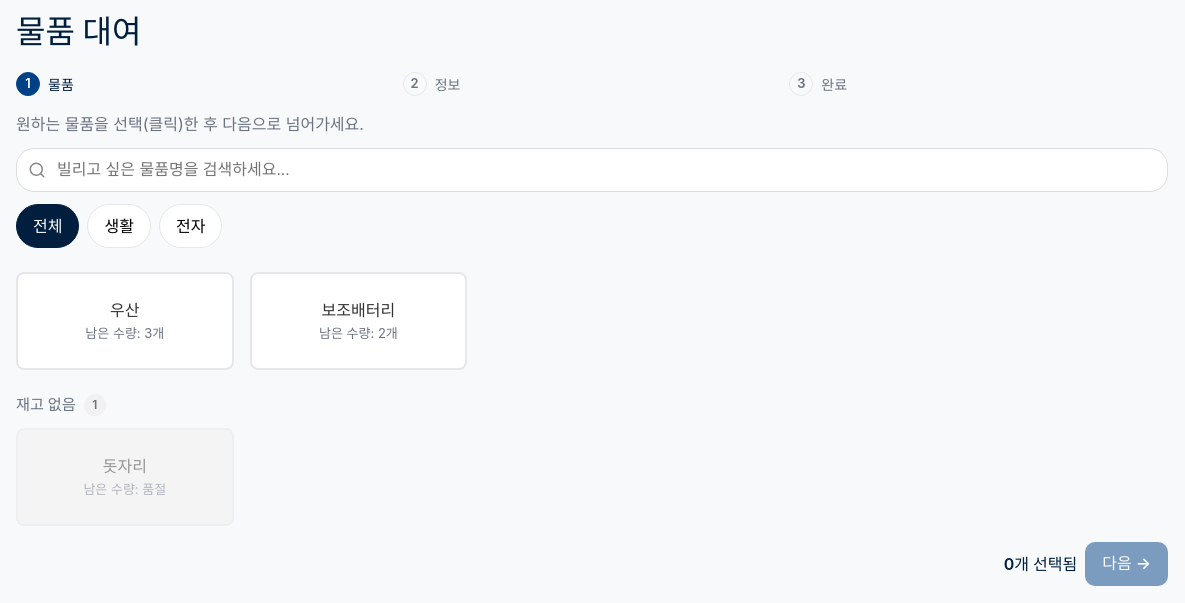
Test: BorrowPage wizard › no 재고 없음 group when everything is in stock
Expected: the button "우산 남은 수량: 3개" is shown, [16,272,234,370]
Click the button "전자": x=191, y=226 [159,204,222,248]
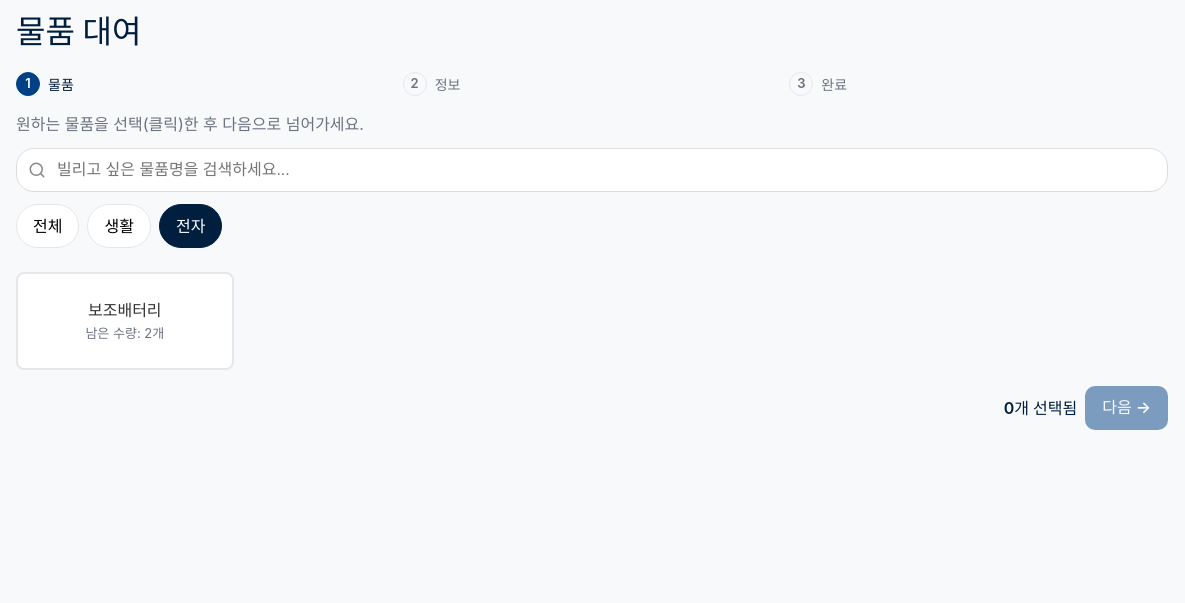
Expected: the heading "재고 없음" is gone
